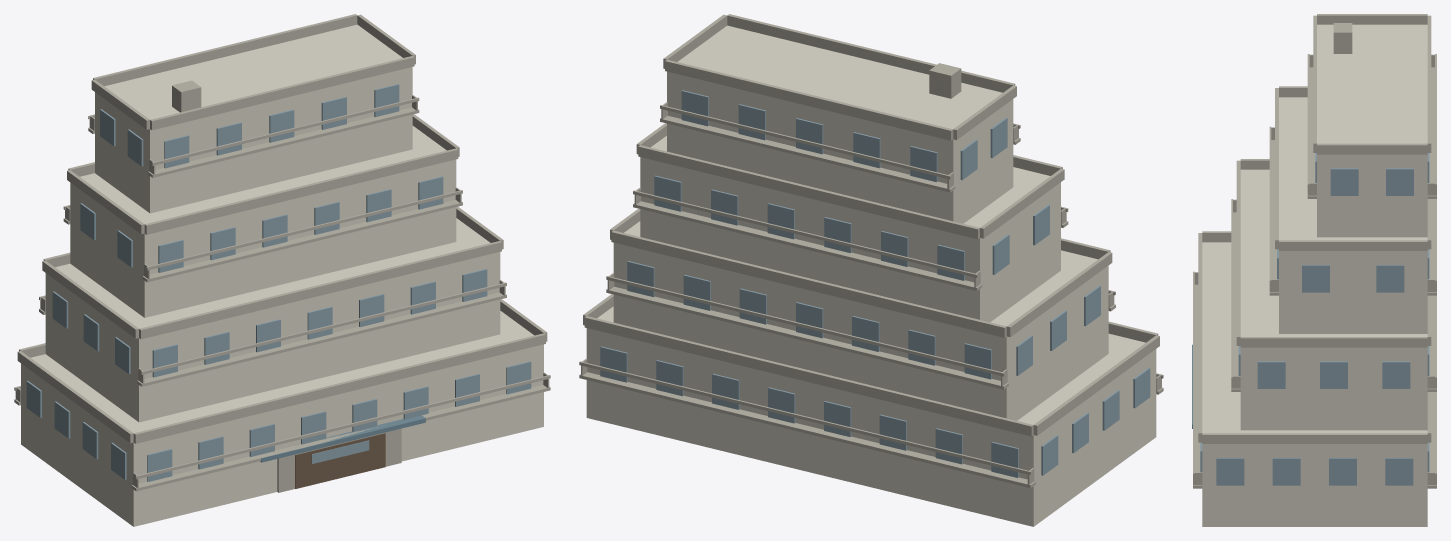
The model's file is residential_4x2_terraces.glb.
The picture shows the model from 3 angles, left to right: view 1: azimuth 30°, elevation 25°; view 2: azimuth 150°, elevation 25°; view 3: azimuth 270°, elevation 25°; orthographic projection. The views are drawn at different scales.
Parts seen in each view (by area): view 1: residential_4x2_terraces_0; view 2: residential_4x2_terraces_0; view 3: residential_4x2_terraces_0.
Boxes of the visible parts, x1,y1,x2,y2 form: residential_4x2_terraces_0: (14, 14, 550, 526); residential_4x2_terraces_0: (579, 14, 1163, 526); residential_4x2_terraces_0: (1192, 14, 1436, 526).
Size of the model in its own units: 31 by 25.5 by 15.75.
